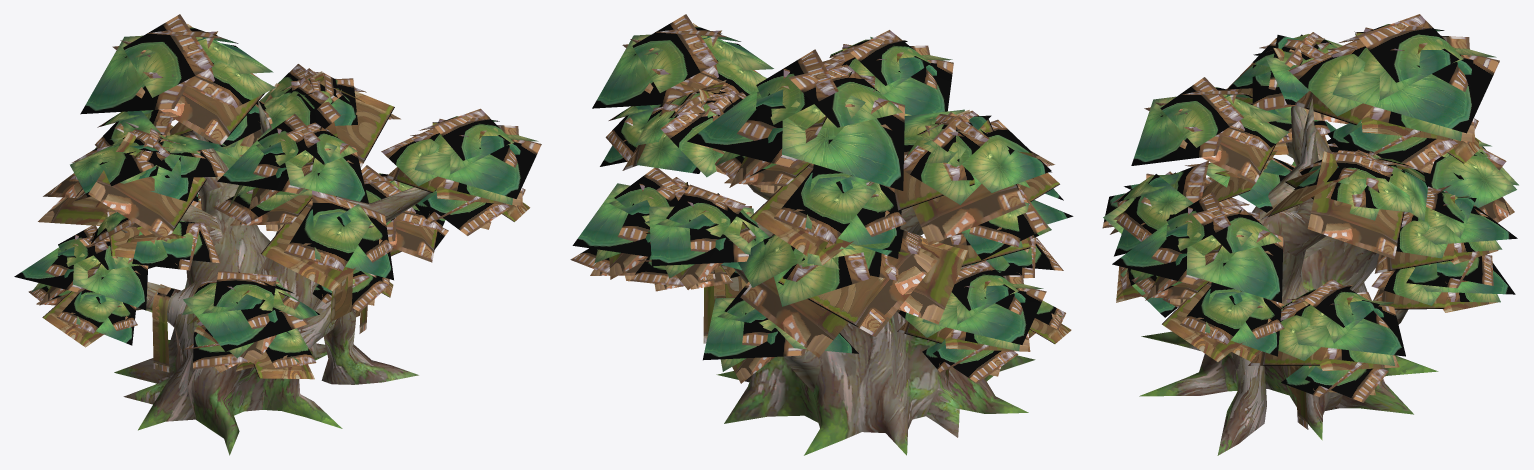
Rendered from Map_08_tree01.FBX.
The picture shows the model from 3 angles, left to right: view 1: azimuth 30°, elevation 25°; view 2: azimuth 150°, elevation 25°; view 3: azimuth 270°, elevation 25°; orthographic projection. The views are drawn at different scales.
Visible parts, largest first — view 1: Map_08_tree01a, Map_08_tree01b; view 2: Map_08_tree01a, Map_08_tree01b; view 3: Map_08_tree01a, Map_08_tree01b.
Part boxes in pixels (x1,y1,x2,y2): Map_08_tree01a: [14, 14, 541, 379]; Map_08_tree01b: [60, 74, 436, 455]; Map_08_tree01a: [570, 14, 1073, 387]; Map_08_tree01b: [707, 87, 1035, 455]; Map_08_tree01a: [1102, 14, 1518, 429]; Map_08_tree01b: [1139, 31, 1438, 455].
Bounding box in the file's own units: 1151 × 870 × 812.
